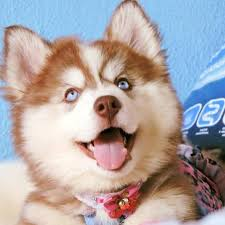husky: (9, 3, 173, 183)
